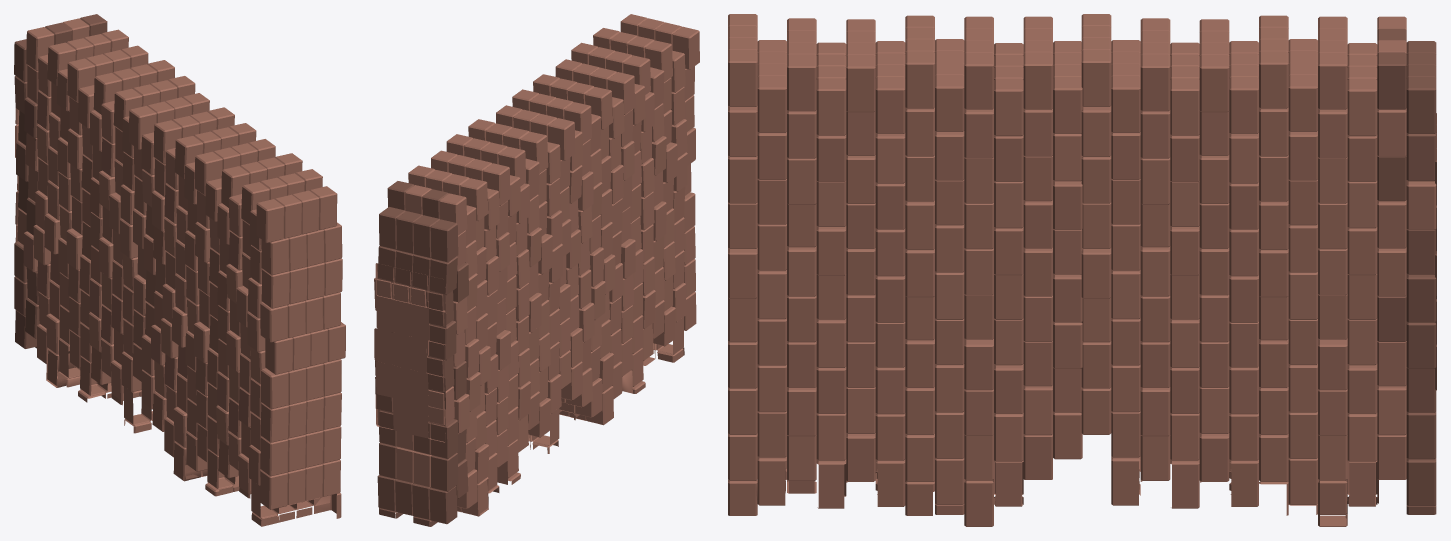
File: Wall Corner__3.fbx
3 renders of one model, left to right at view 1: azimuth 30°, elevation 25°; view 2: azimuth 150°, elevation 25°; view 3: azimuth 270°, elevation 25°, orthographic. The views are drawn at different scales.
Visible parts, largest first — view 1: Wall1.005; view 2: Wall1.005; view 3: Wall1.005.
Part boxes in pixels (bbox=[...]): Wall1.005: bbox=[14, 14, 345, 526]; Wall1.005: bbox=[374, 14, 699, 526]; Wall1.005: bbox=[728, 14, 1436, 526].
Bounding box in the file's own units: 139 × 555 × 768.
